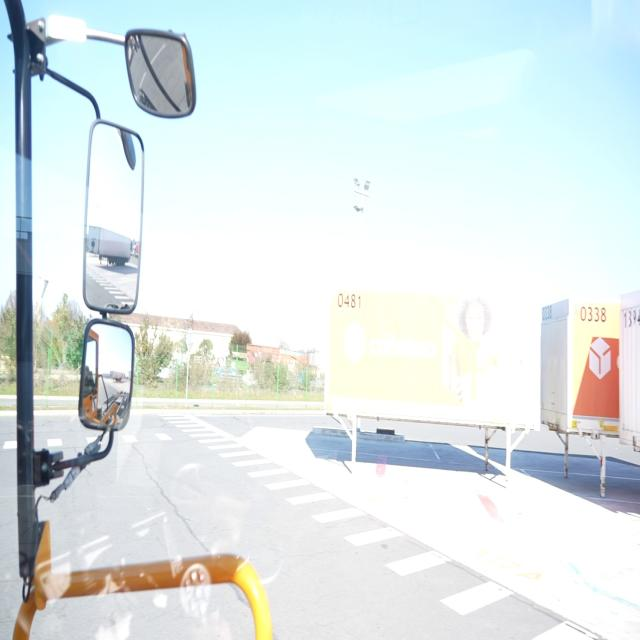Code: (334, 287, 364, 313), (576, 302, 608, 326)
